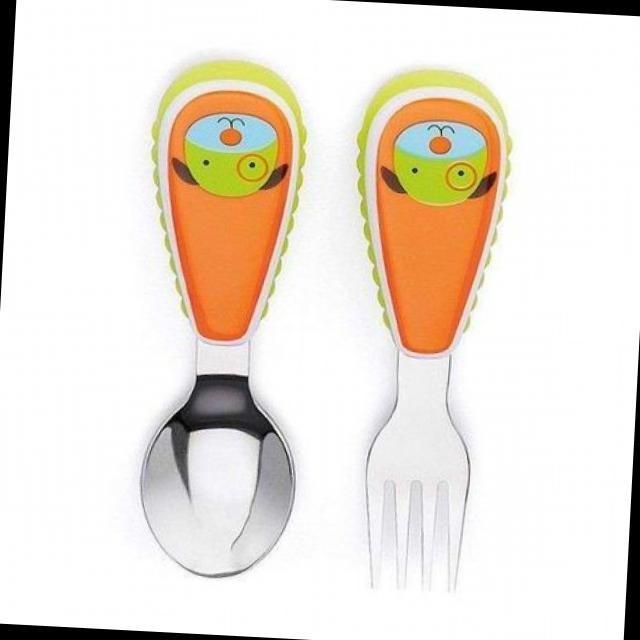fork: (345, 56, 530, 602)
spoon: (106, 43, 329, 589)
